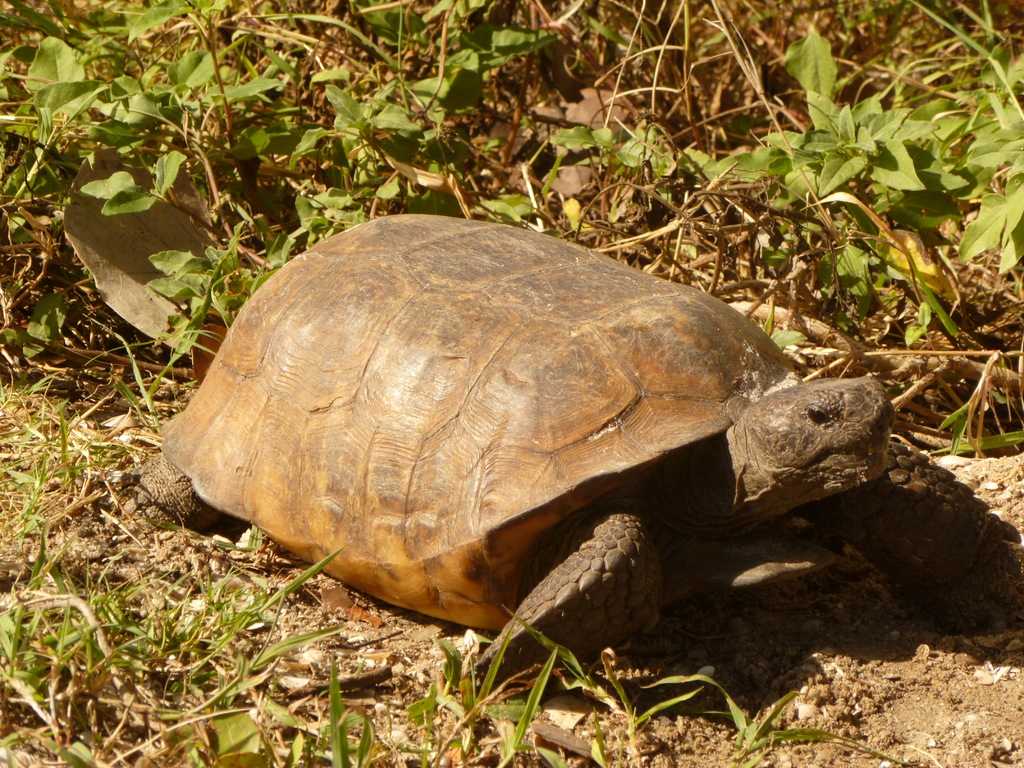Sea turtles: (138, 202, 1023, 726)
